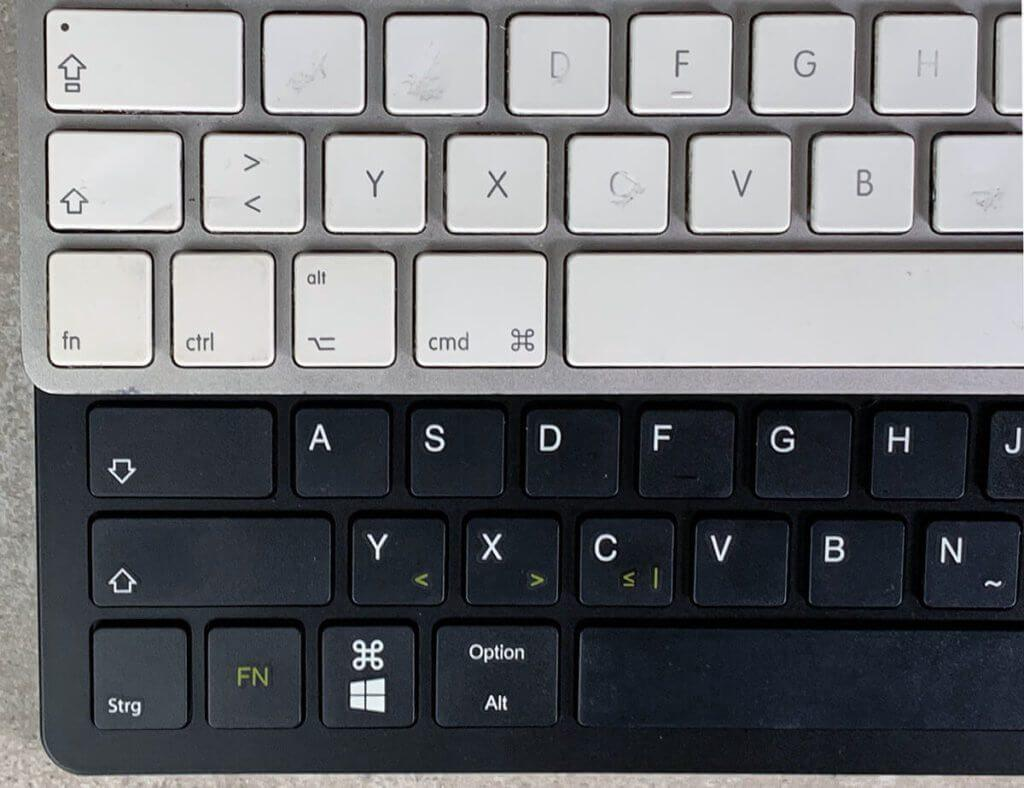a: (257, 8, 370, 117), (289, 403, 394, 500)
alt-left: (427, 619, 564, 730), (287, 247, 403, 373)
b: (806, 128, 920, 234), (803, 513, 908, 608)
c: (561, 130, 674, 236), (573, 513, 679, 609)
d: (501, 7, 614, 119), (517, 404, 624, 501)
f: (622, 7, 737, 118), (632, 405, 738, 501)
g: (744, 6, 859, 118), (747, 405, 855, 501)
h: (868, 6, 982, 115), (863, 405, 969, 501)
keyboard: (12, 2, 1023, 392), (28, 393, 1015, 780)
less: (196, 127, 310, 236)
n: (917, 513, 1019, 611)
s: (379, 8, 491, 119), (402, 403, 508, 500)
shift-left: (86, 510, 339, 607), (41, 127, 188, 236)
shift-lock: (41, 2, 250, 115), (79, 402, 277, 499)
space: (557, 244, 1021, 372), (571, 619, 1020, 732)
strg-left: (164, 246, 280, 372), (85, 620, 194, 736)
v: (682, 128, 796, 235), (688, 513, 791, 607)
x: (439, 129, 552, 236), (458, 512, 563, 608)
y: (318, 128, 430, 237), (345, 512, 450, 607)
